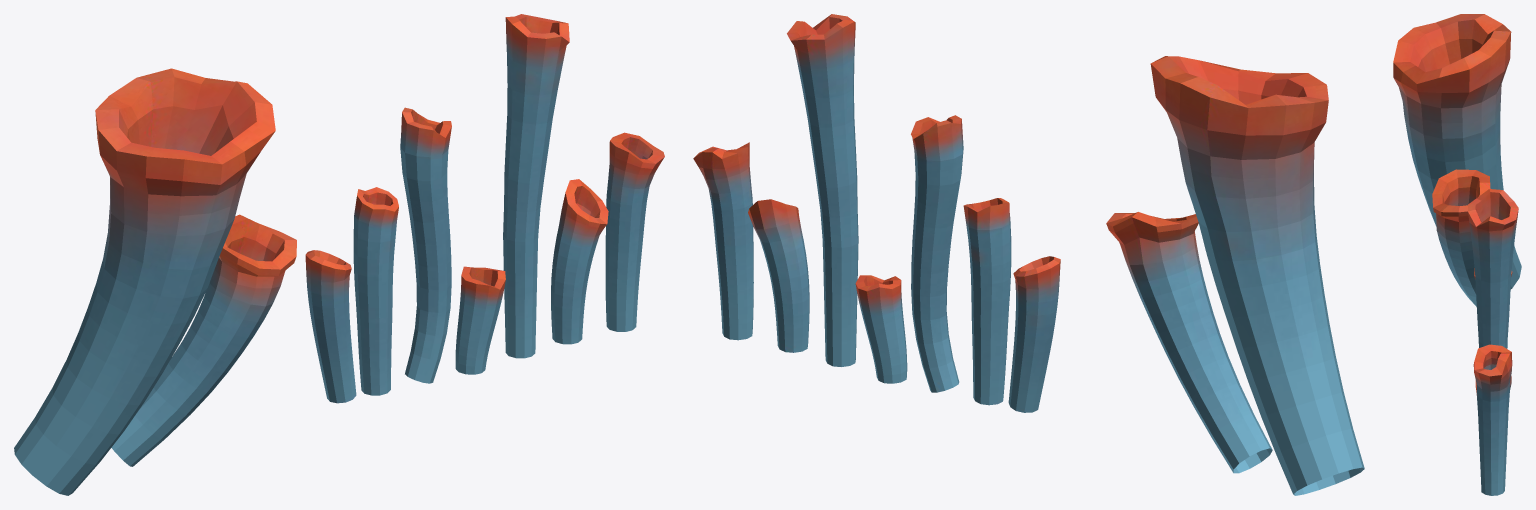
Rendered from plant_38.fbx.
The picture shows the model from 3 angles, left to right: view 1: azimuth 30°, elevation 25°; view 2: azimuth 150°, elevation 25°; view 3: azimuth 270°, elevation 25°; orthographic projection. The views are drawn at different scales.
Visible parts, largest first — view 1: polySurface10; view 2: polySurface10; view 3: polySurface10.
Boxes of the visible parts, x1,y1,x2,y2 form: polySurface10: (14, 14, 664, 495); polySurface10: (693, 14, 1364, 495); polySurface10: (1393, 14, 1521, 495).
Bounding box in the file's own units: 19.44 × 11.04 × 4.28.
